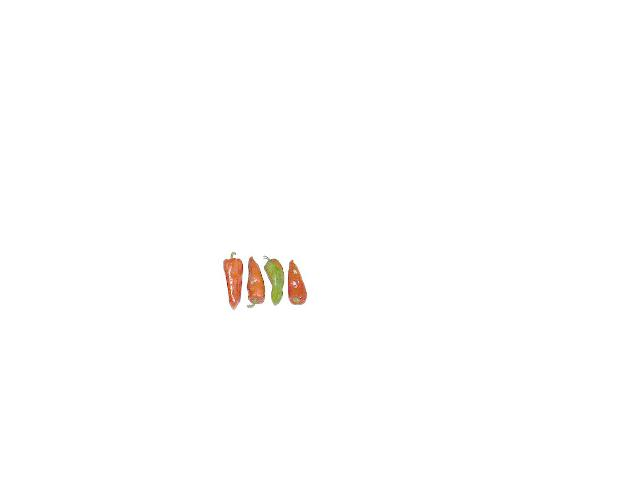bell_pepper: (286, 255, 312, 306)
